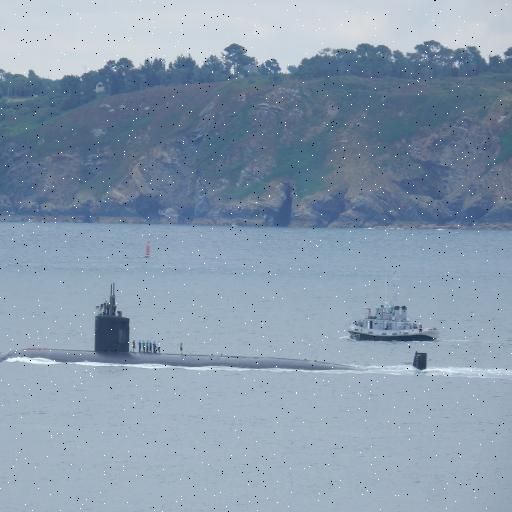submarine: (1, 296, 429, 378)
